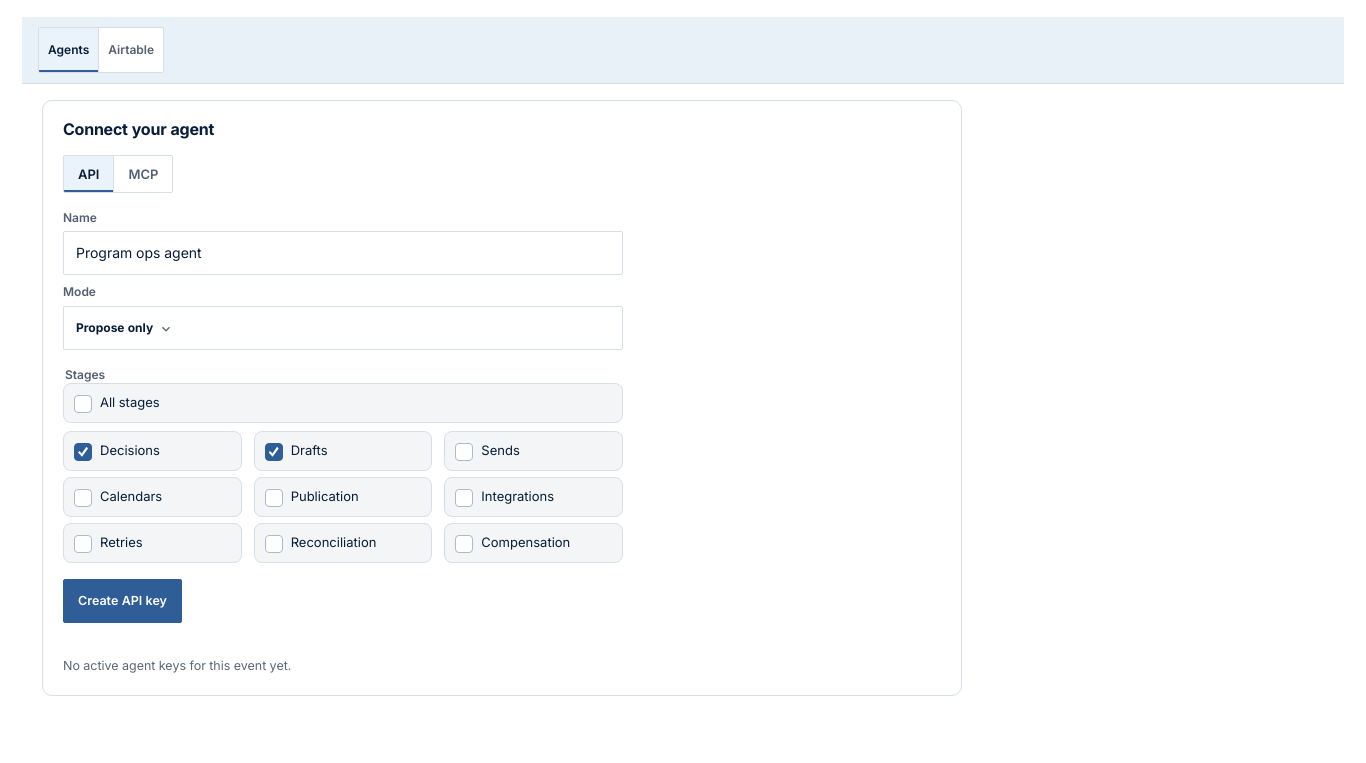
Test: Settings Airtable sync › shows API and MCP automation access without an OAuth wizard
The image size is (1366, 763).
Click the button "Agents": (69, 50) [39,28,99,72]
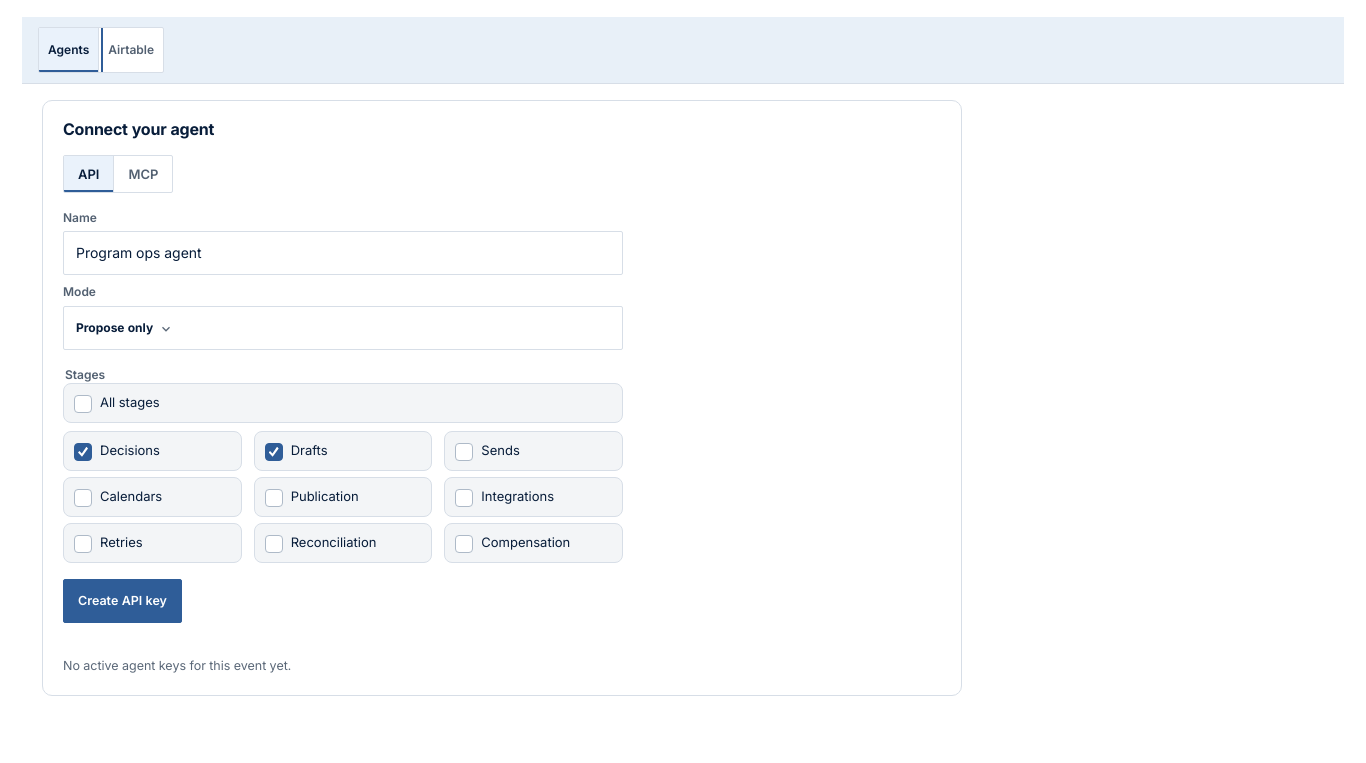
Expected: the button "API" is shown, [64,156,114,192]
Click the button "MCP": (144, 174) [114,156,172,192]
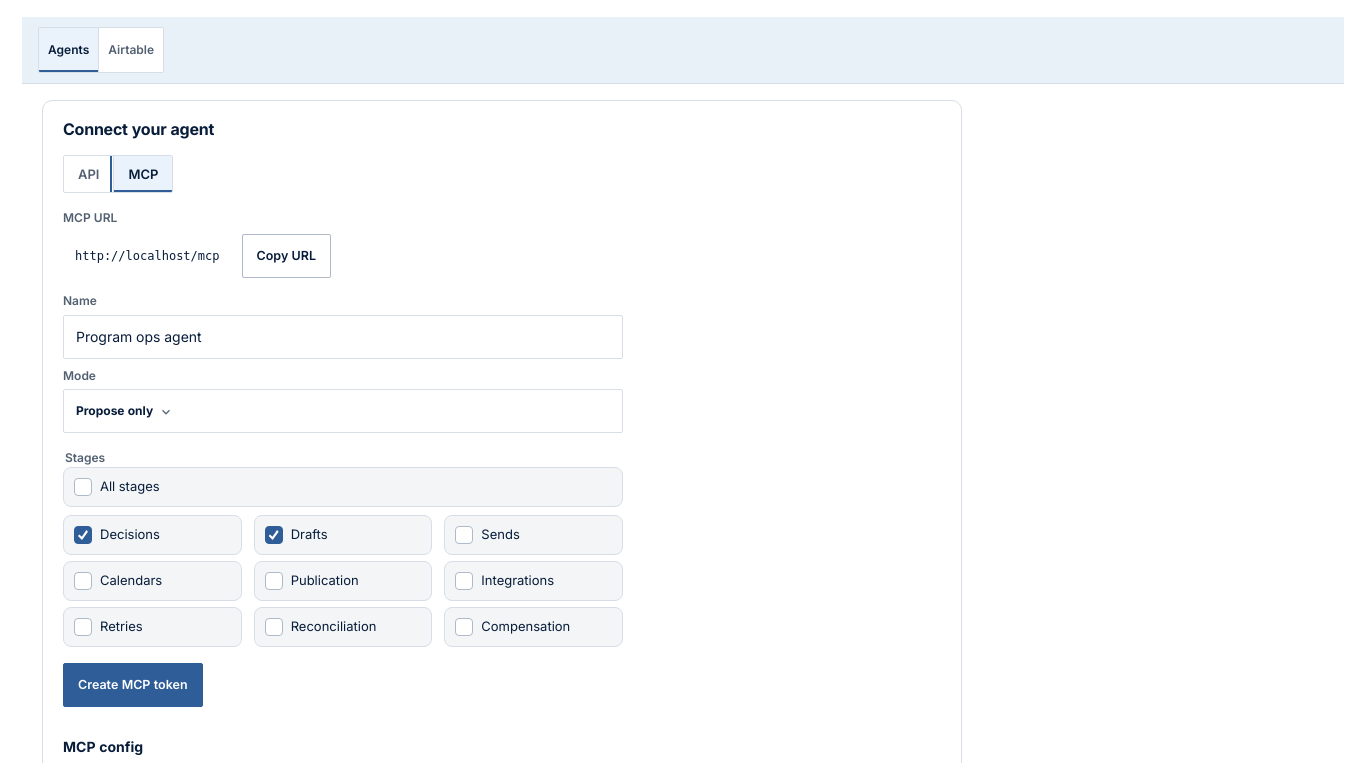
Expected: the text "MCP URL" is shown, [63,210,117,225]
Expected: the text "MCP config" is shown, [63,738,143,755]
Click the button "Create MCP token": (133, 685) [63,663,203,707]
(page scrolled)
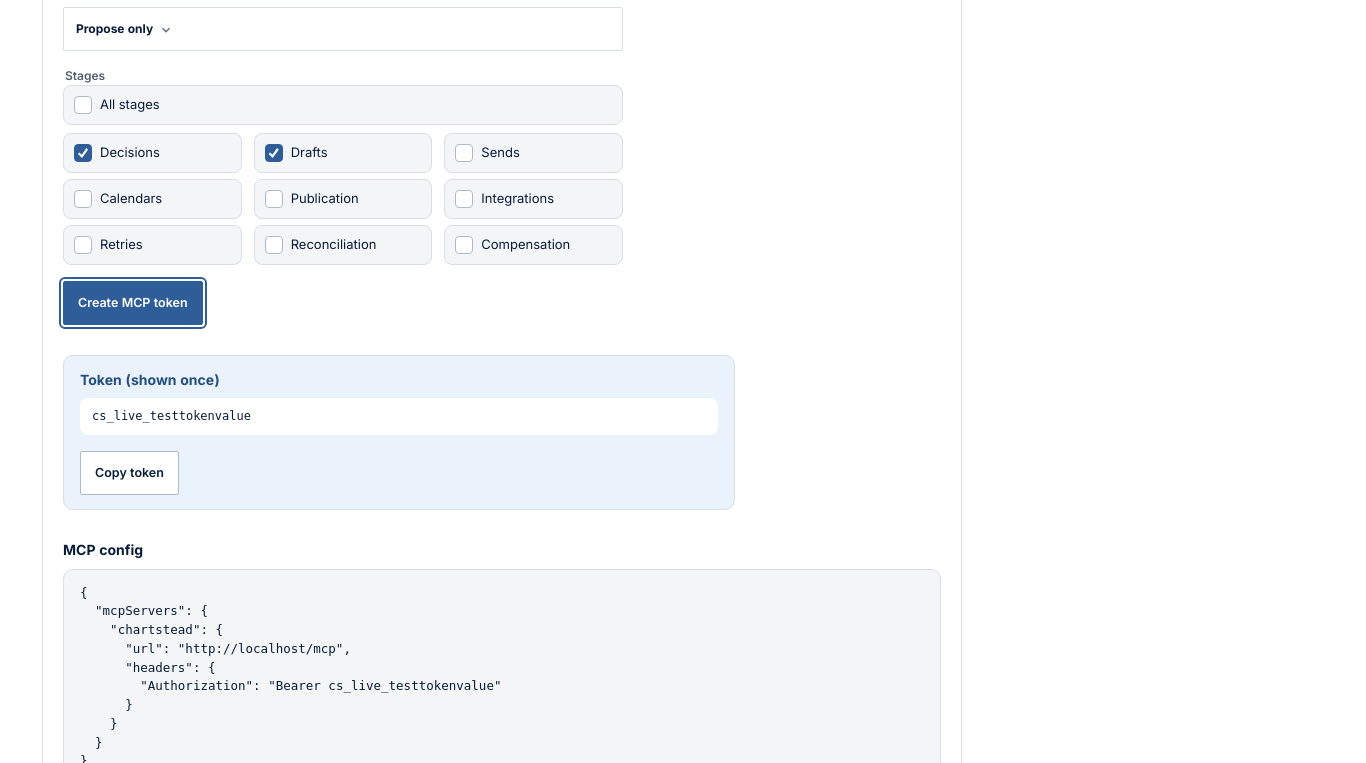
Expected: the text "cs_live_testtokenvalue" is shown, [80,398,718,435]
Expected: the text "Token (shown once)" is shown, [80,371,220,388]
